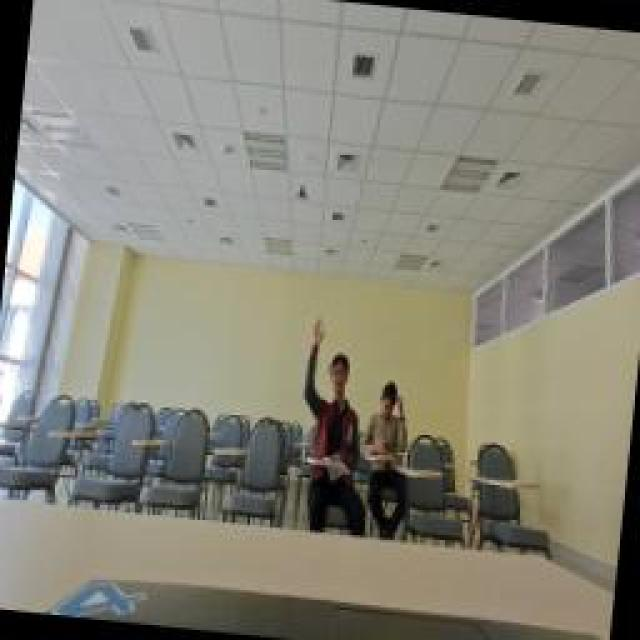study: (295, 315, 373, 470), (357, 378, 415, 460)
